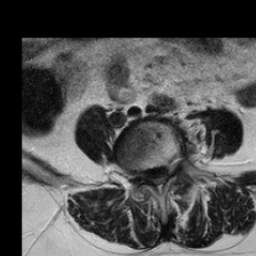CCS_severe_stenosis: (155, 166, 162, 200)
LFS_normal: (170, 149, 178, 181)
LLS_severe_stenosis: (162, 165, 170, 192)
RFS_severe_stenosis: (139, 160, 148, 188)
RLS_severe_stenosis: (148, 166, 155, 194)
